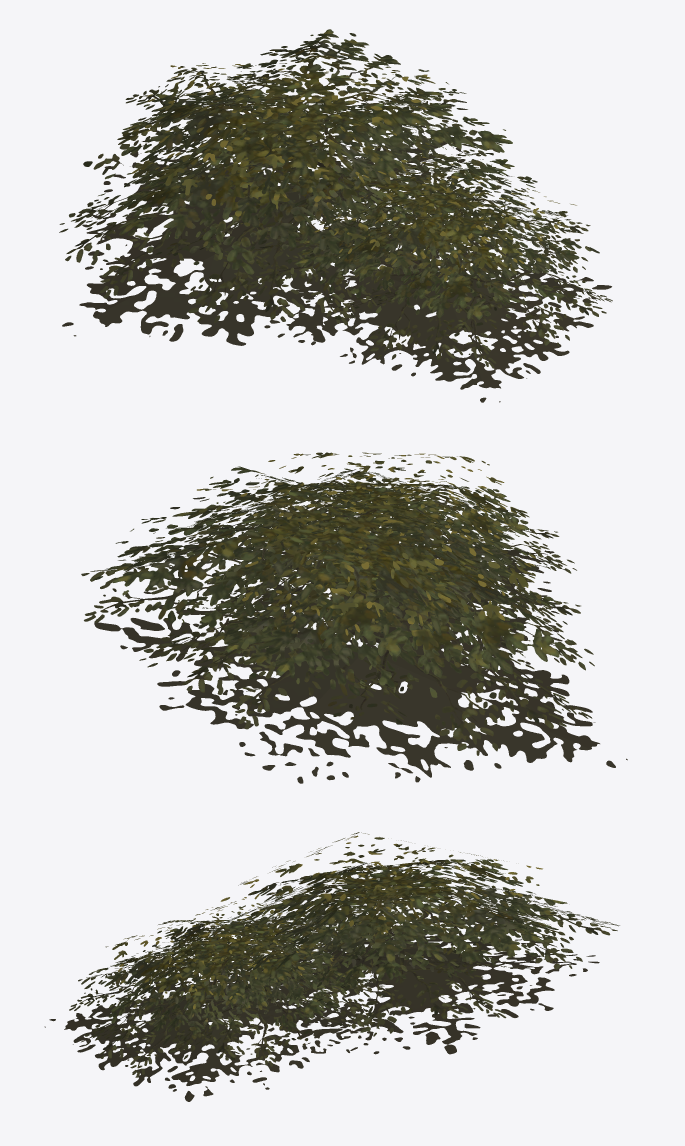
The model's file is plants_bushes12.fbx.
3 renders of one model, top to bottom at view 1: azimuth 30°, elevation 25°; view 2: azimuth 150°, elevation 25°; view 3: azimuth 270°, elevation 25°, orthographic. The views are drawn at different scales.
Visible parts, largest first — view 1: obj0.121; view 2: obj0.121; view 3: obj0.121.
Boxes of the visible parts, box(x1,y1,x2,y2) form: obj0.121: box(59, 29, 612, 402); obj0.121: box(81, 452, 627, 783); obj0.121: box(44, 832, 619, 1101).
Size of the model in its own units: 5.34 by 1.76 by 6.24.
